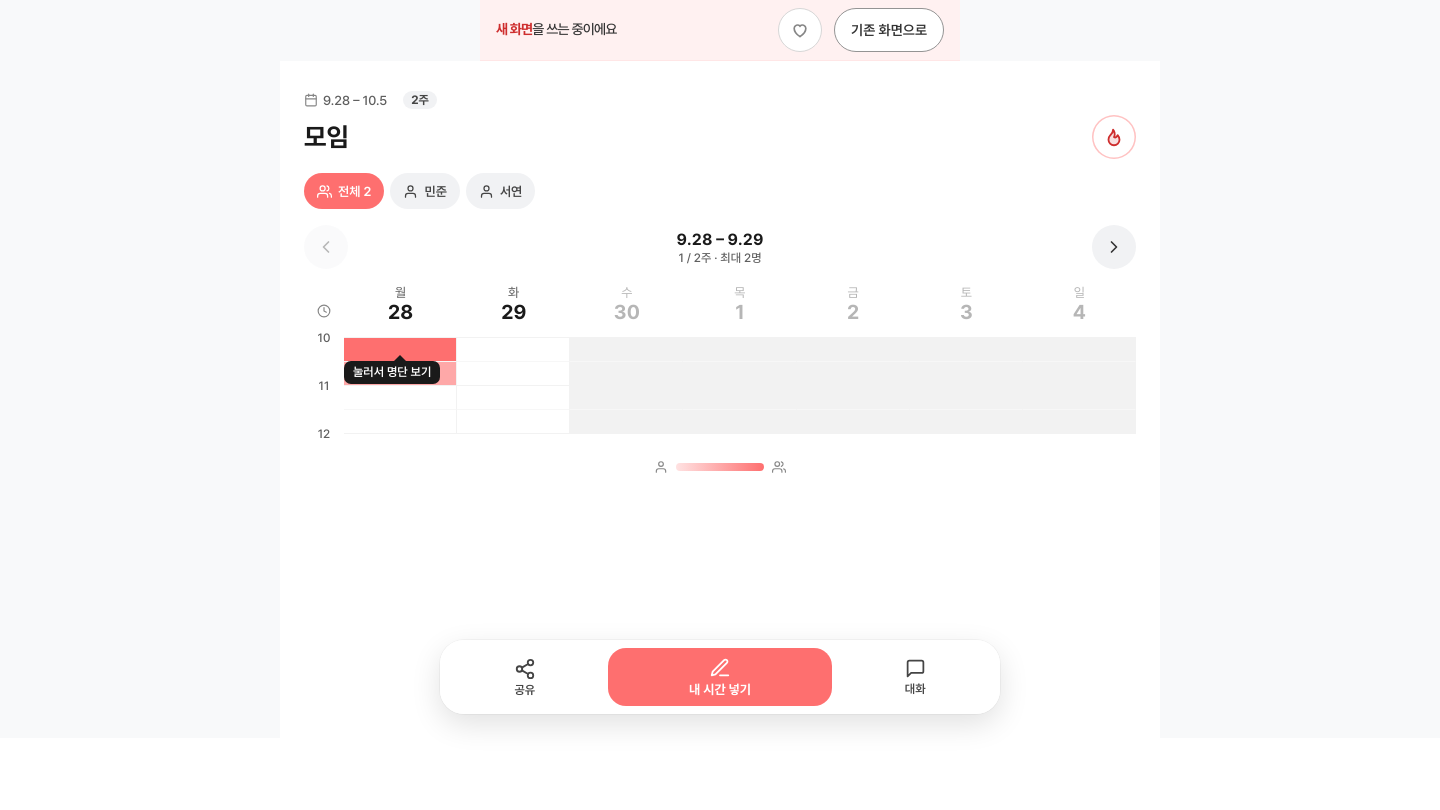
Test case: 참여 › 비밀번호가 다르면 창에 알리고 참여하지 않는다
Expected: the heading "모임" is shown, [304, 122, 349, 152]
Click the button "내 시간 넣기": (720, 677) [608, 648, 832, 706]
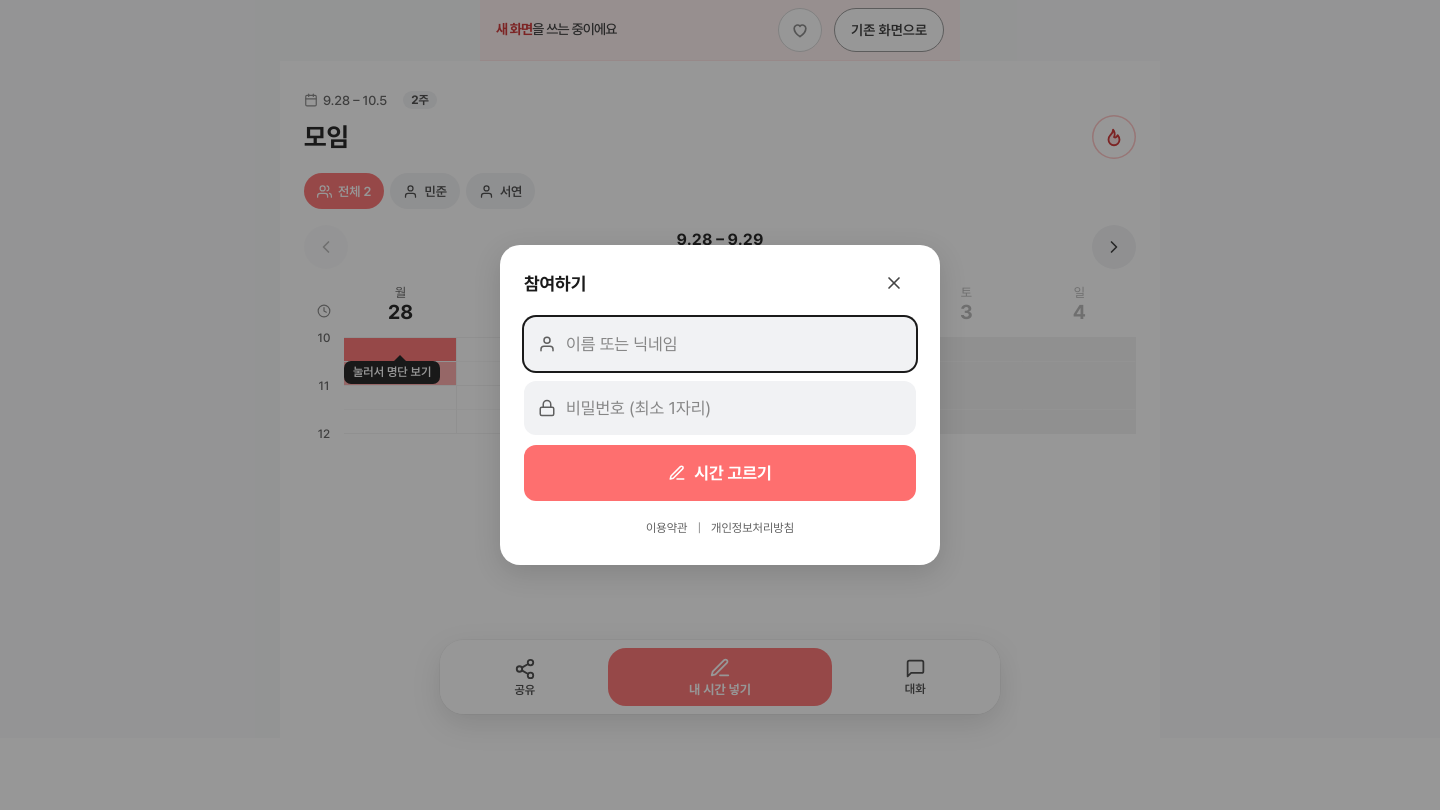
In the field labelled "이름": (734, 344) [566, 319, 902, 369], type "민준"
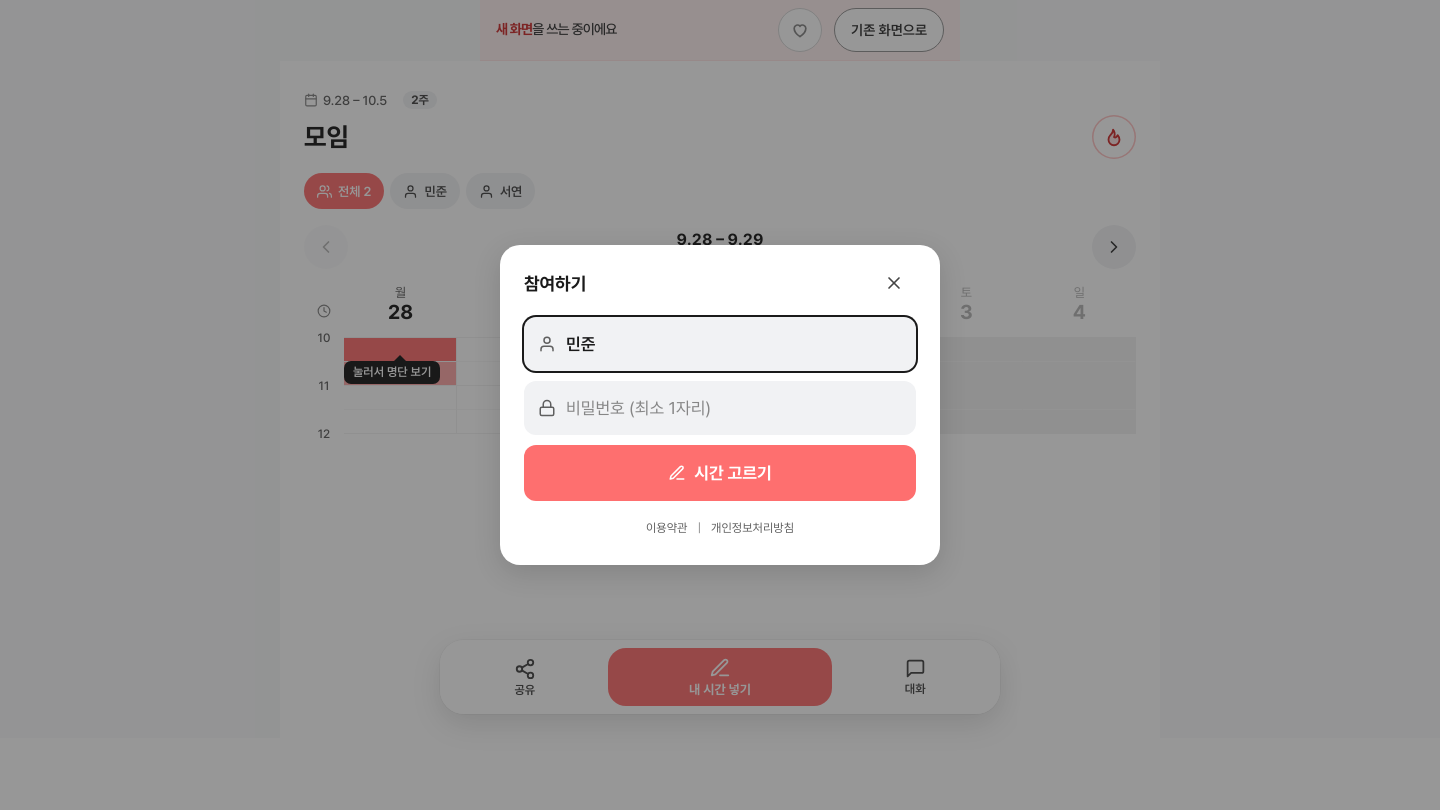
In the password field labelled "비밀번호": (734, 408) [566, 383, 902, 433], type "0000"
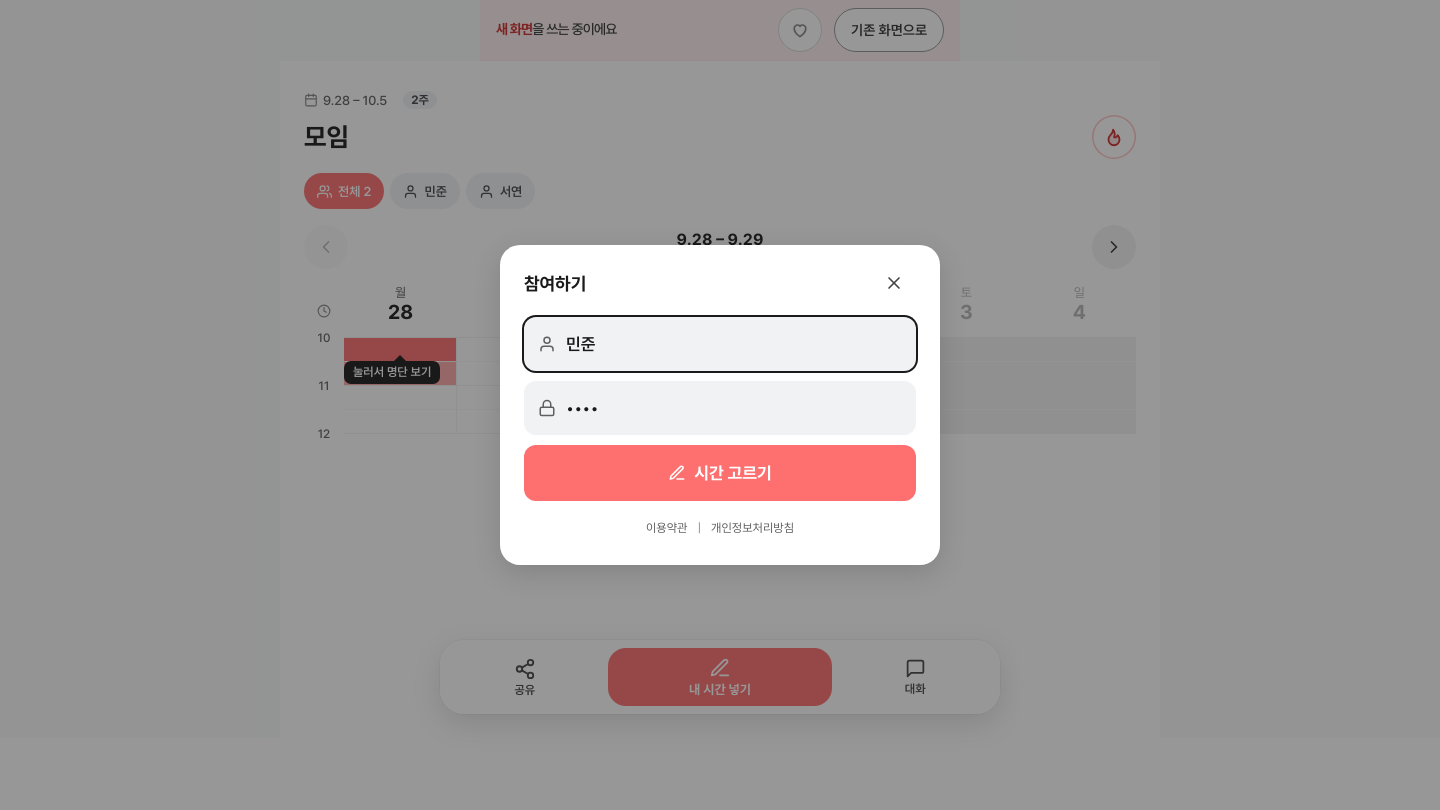
Click the button "시간 고르기": (720, 473) [524, 445, 916, 501]
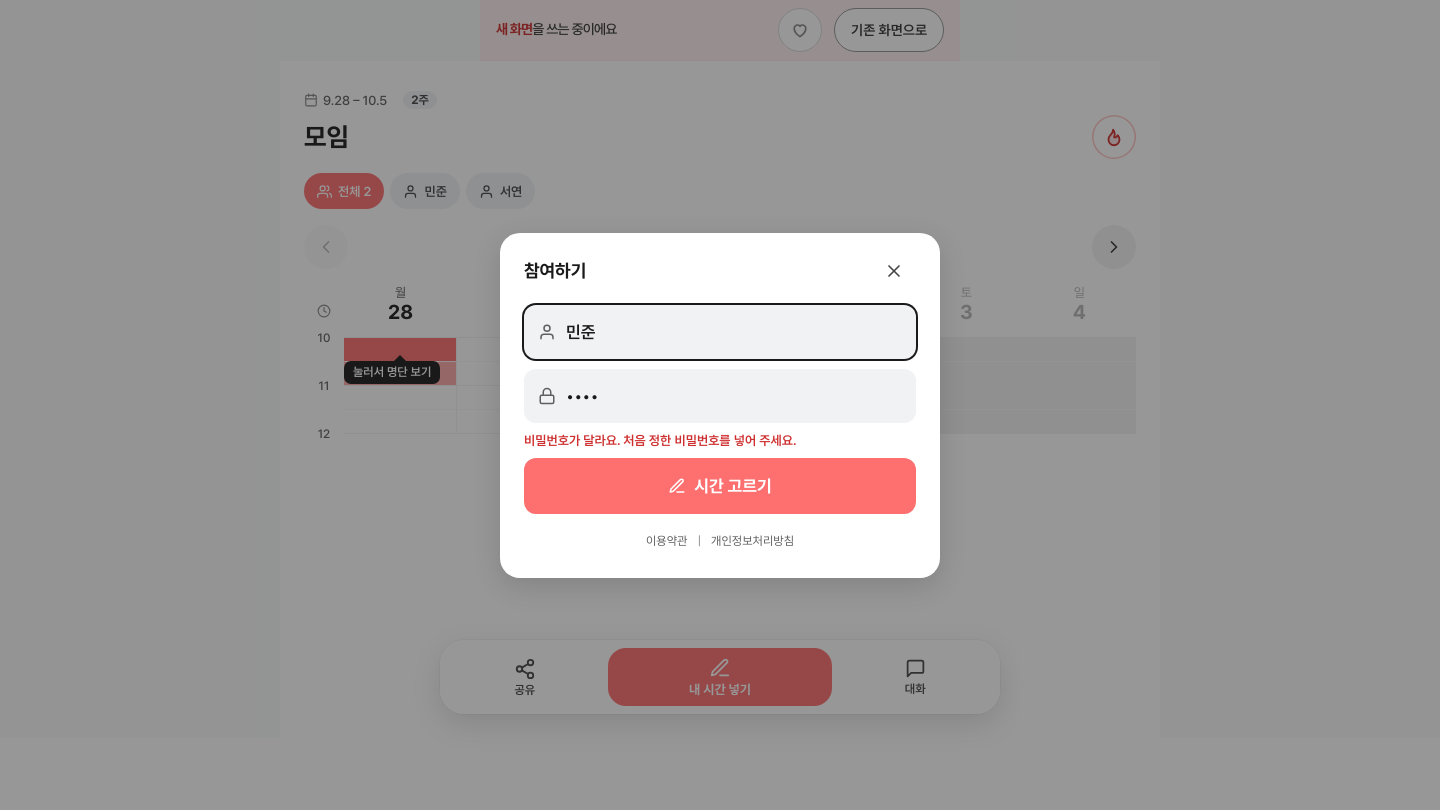
Expected: the text "비밀번호가 달라요. 처음 정한 비밀번호를 넣어 주세요." is shown, [524, 432, 796, 448]
